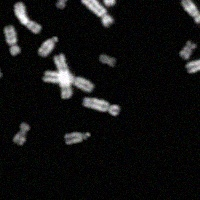chromosome: (42, 71, 95, 92), (81, 0, 113, 27), (14, 3, 41, 33), (54, 53, 71, 98), (82, 96, 119, 115), (4, 26, 20, 56), (181, 0, 200, 24), (38, 37, 58, 57), (12, 122, 29, 145), (179, 41, 196, 61), (64, 131, 89, 144), (185, 53, 200, 72), (100, 54, 115, 66), (56, 0, 68, 9), (102, 0, 116, 5), (0, 29, 1, 79)
